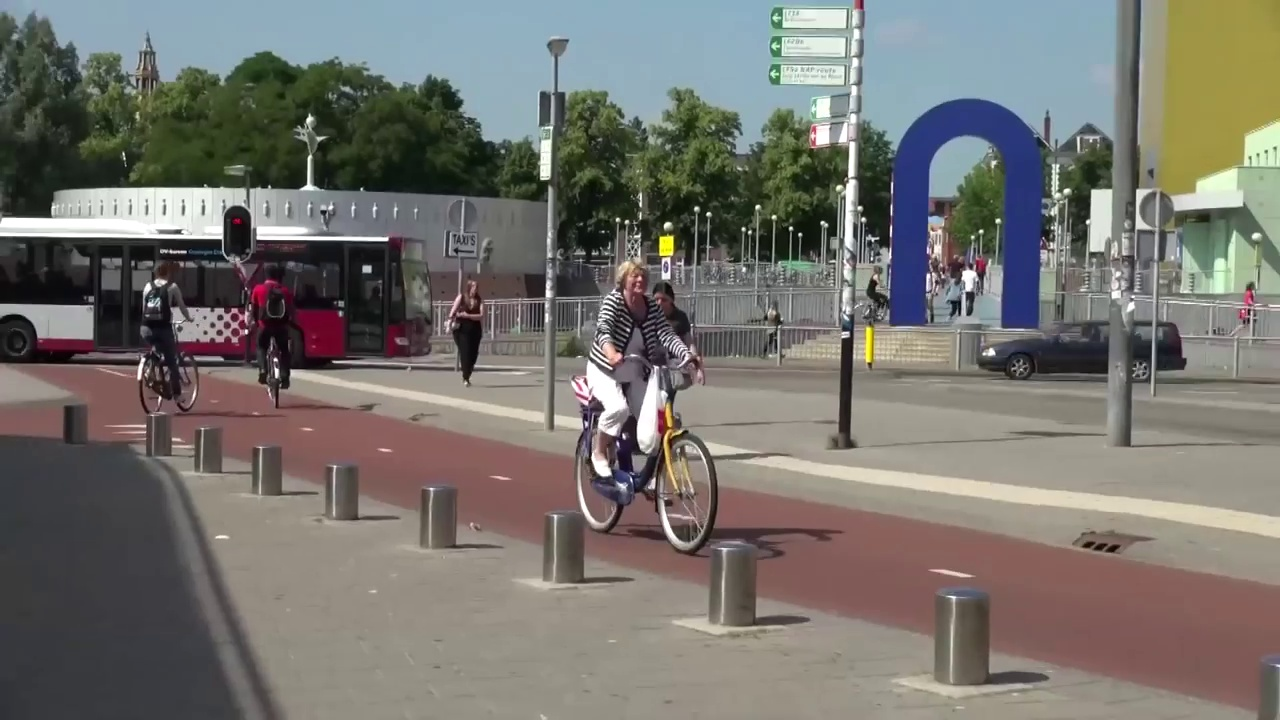cyclist_back: (136, 266, 207, 419), (248, 265, 296, 406)
cyclist_side: (565, 259, 723, 543)
